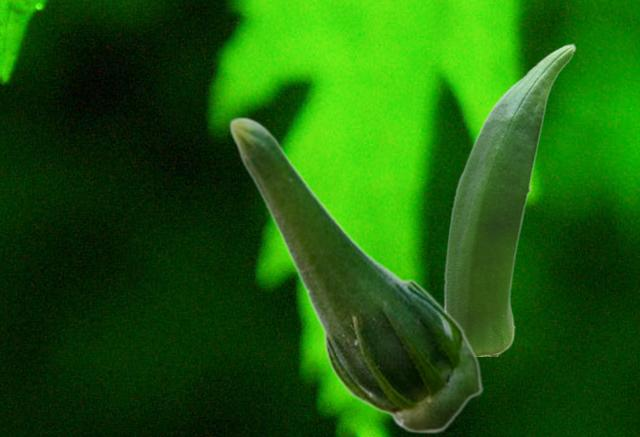okra: (228, 116, 482, 433), (441, 43, 575, 355)
